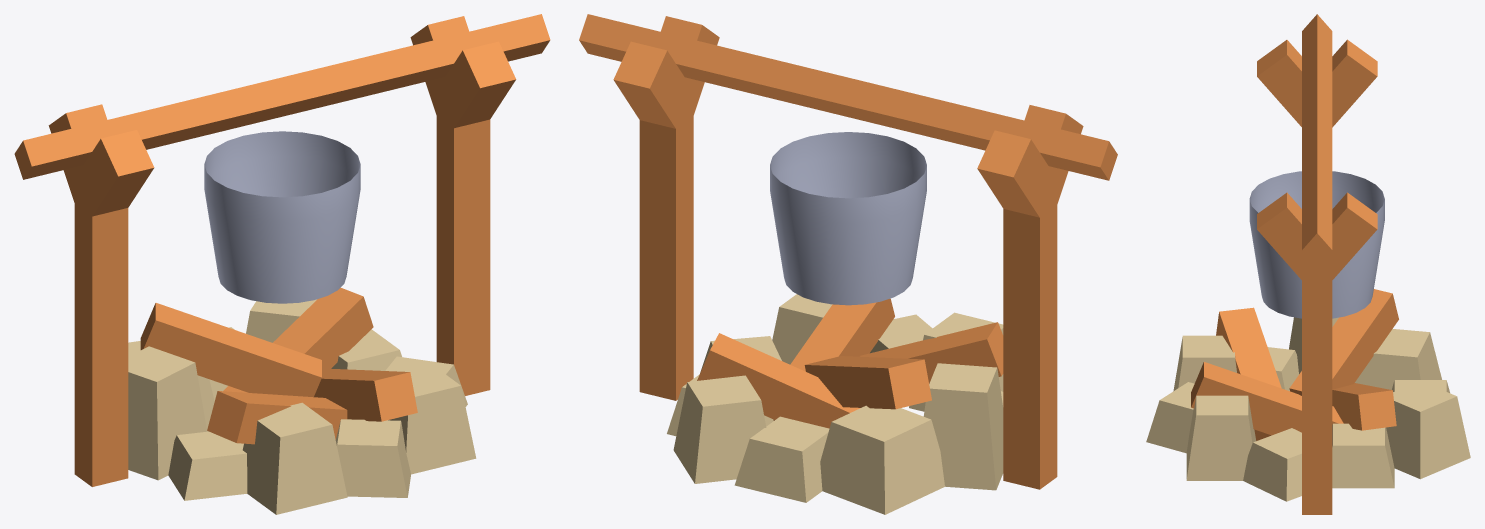
Rendered from campfire.glb.
3 views of the same model, side by side, from view 1: azimuth 30°, elevation 25°; view 2: azimuth 150°, elevation 25°; view 3: azimuth 270°, elevation 25° (orthographic). The views are drawn at different scales.
Visible parts, largest first — view 1: campfire, rocks, bucket, wood; view 2: campfire, rocks, bucket, wood; view 3: rocks, campfire, wood, bucket.
Boxes of the visible parts, left/top/right/bottom form: campfire: left=14, top=14, right=550, bottom=486; rocks: left=128, top=299, right=476, bottom=514; bucket: left=204, top=131, right=360, bottom=303; wood: left=140, top=287, right=417, bottom=444; campfire: left=579, top=14, right=1117, bottom=489; rocks: left=667, top=294, right=1003, bottom=514; bucket: left=770, top=132, right=926, bottom=305; wood: left=697, top=298, right=1003, bottom=428; rocks: left=1146, top=317, right=1470, bottom=501; campfire: left=1257, top=14, right=1377, bottom=514; wood: left=1191, top=289, right=1398, bottom=440; bucket: left=1249, top=171, right=1384, bottom=318.
Size of the model in its own units: 0.43 by 0.2812 by 0.2692.
Materials: 1 (1 with a texture image).
